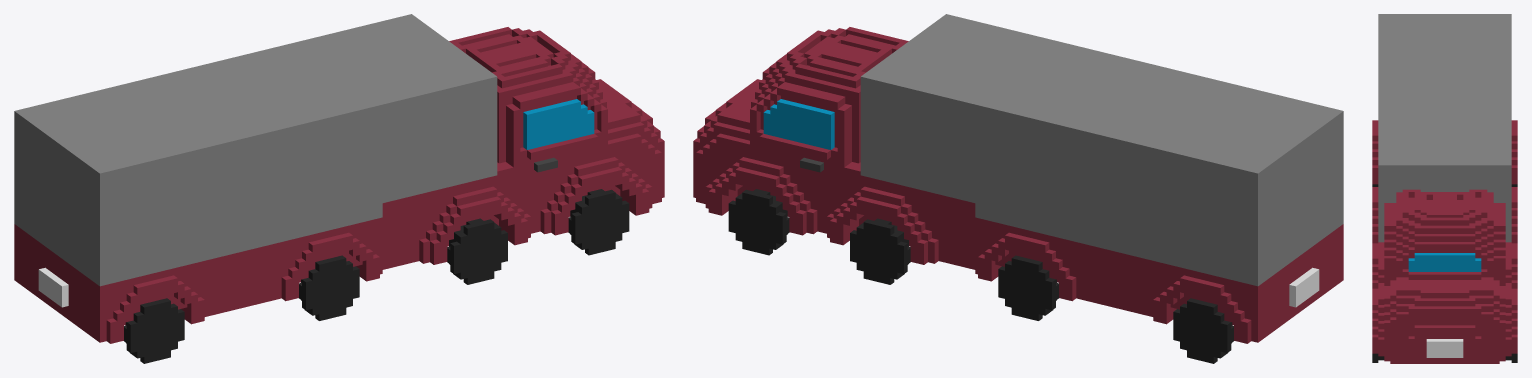
The model's file is truckL.obj.
3 renders of one model, left to right at view 1: azimuth 30°, elevation 25°; view 2: azimuth 150°, elevation 25°; view 3: azimuth 270°, elevation 25°, orthographic. The views are drawn at different scales.
Size of the model in its own units: 8.8 by 2.8 by 2.4.
Materials: 1 (1 with a texture image).
